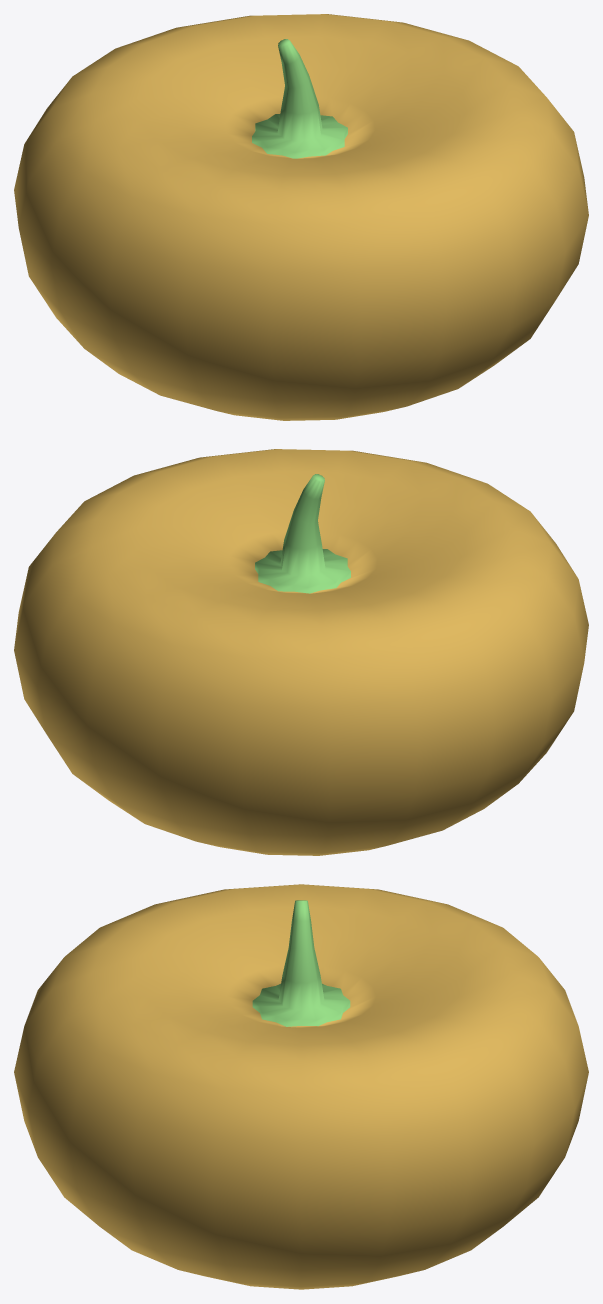
Rendered from Pumpkin.fbx.
3 views of the same model, one above another, from view 1: azimuth 30°, elevation 25°; view 2: azimuth 150°, elevation 25°; view 3: azimuth 270°, elevation 25° (orthographic).
Parts seen in each view (by area): view 1: Pumpkin_LP; view 2: Pumpkin_LP; view 3: Pumpkin_LP.
Boxes of the visible parts, bbox=[...] form: Pumpkin_LP: bbox=[14, 14, 588, 420]; Pumpkin_LP: bbox=[14, 449, 588, 855]; Pumpkin_LP: bbox=[14, 884, 588, 1289].
Bounding box in the file's own units: 68.17 × 42.26 × 68.17.
